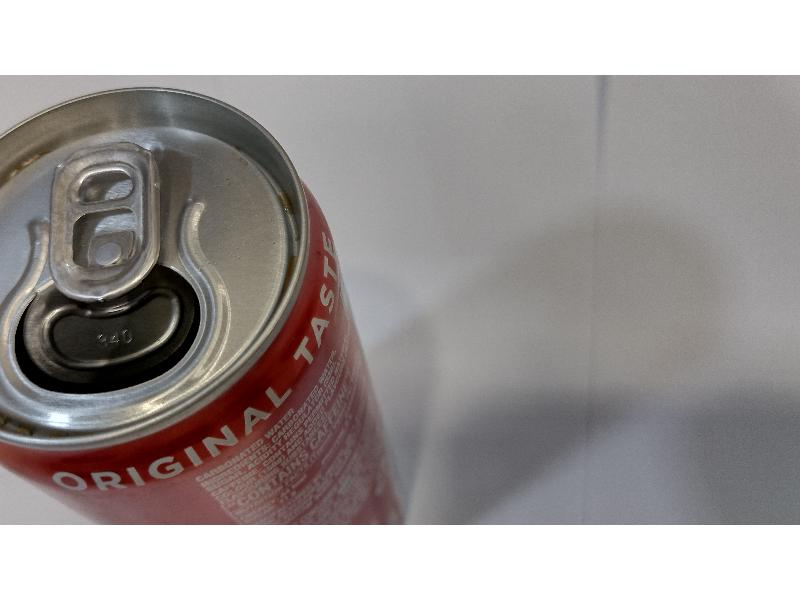can: (0, 84, 409, 520)
